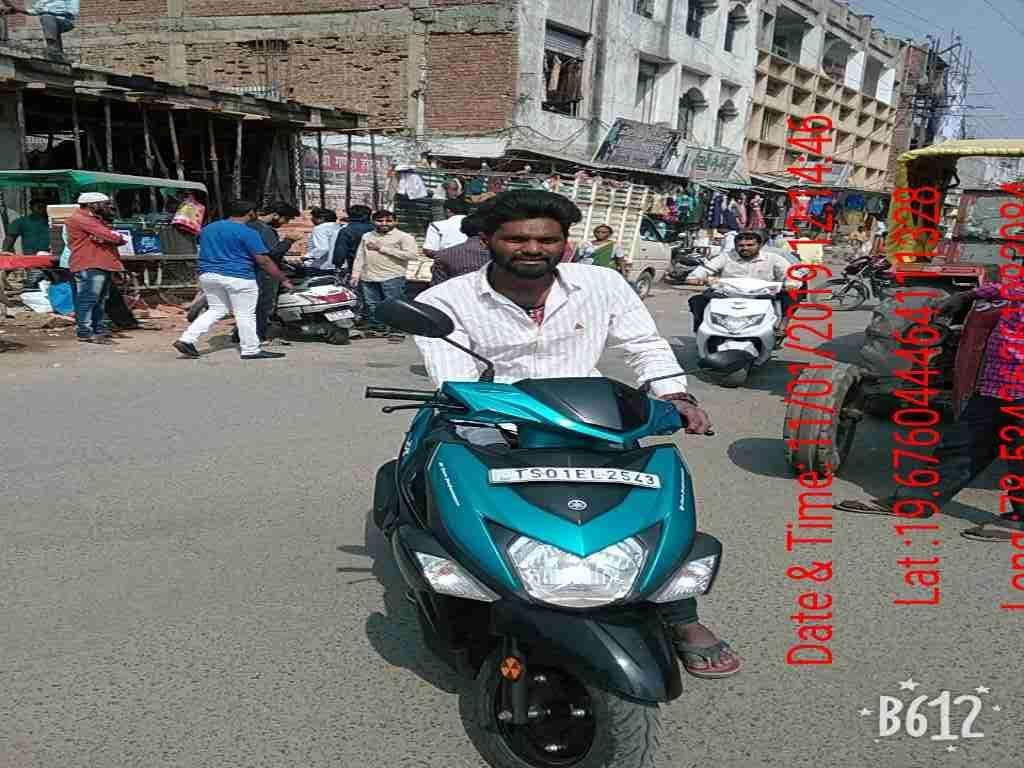plate: (486, 455, 678, 502), (320, 302, 356, 326)
